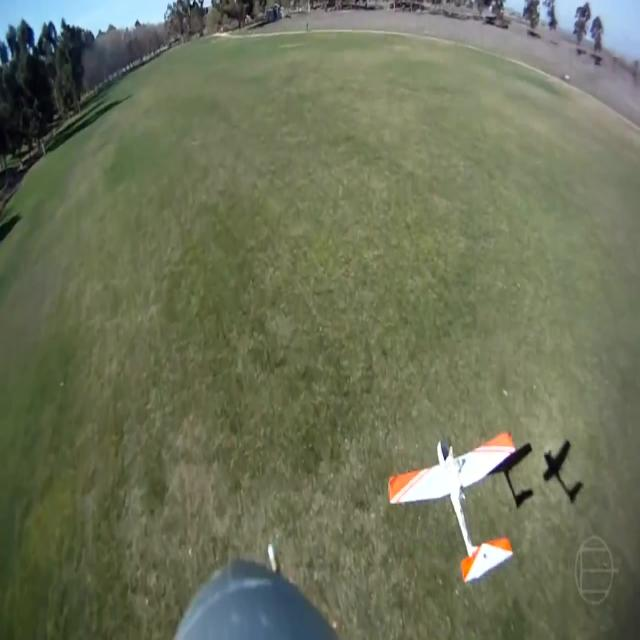iha: (389, 427, 517, 583)
